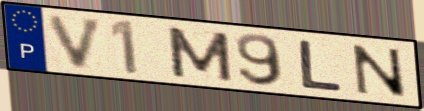1: (109, 18, 141, 77)
9: (233, 32, 285, 88)
L: (297, 38, 345, 94)
M: (163, 25, 236, 84)
N: (349, 42, 411, 100)
V: (45, 13, 108, 72)
